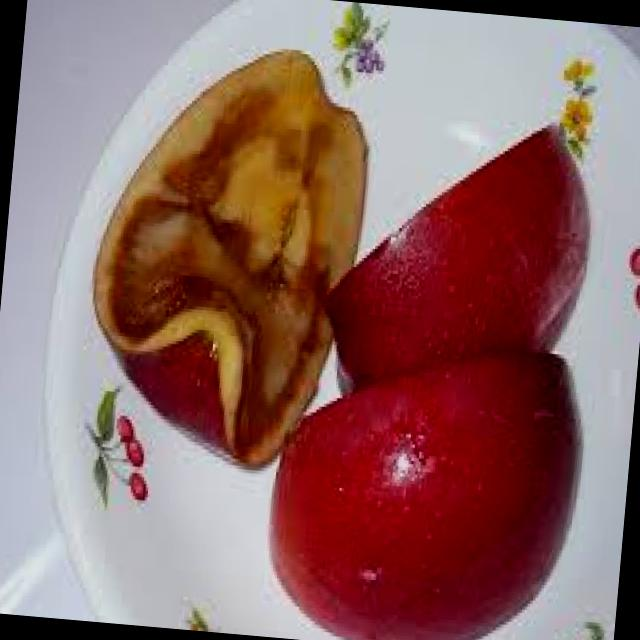organic: (35, 59, 592, 640)
